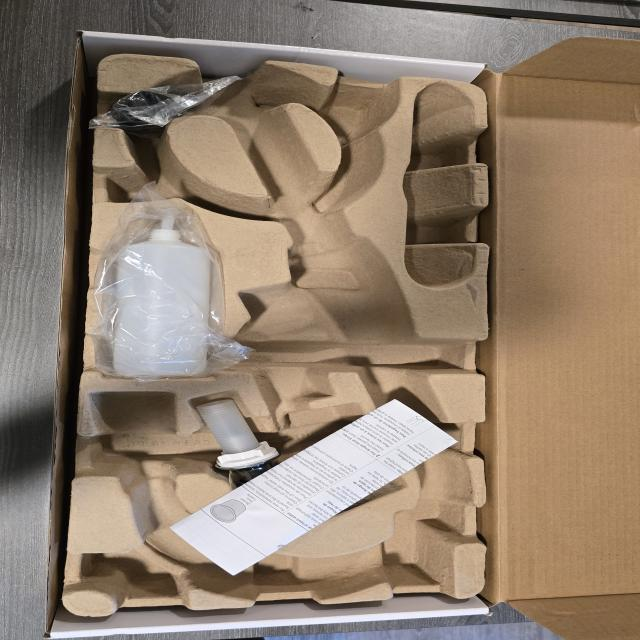1m: (96, 59, 475, 598)
2o: (192, 400, 394, 522)
3: (110, 211, 209, 378)
4m: (398, 82, 473, 289)
5m: (323, 90, 397, 140)
6m: (106, 144, 237, 216)
7: (86, 74, 245, 129)
8: (166, 399, 462, 577)
